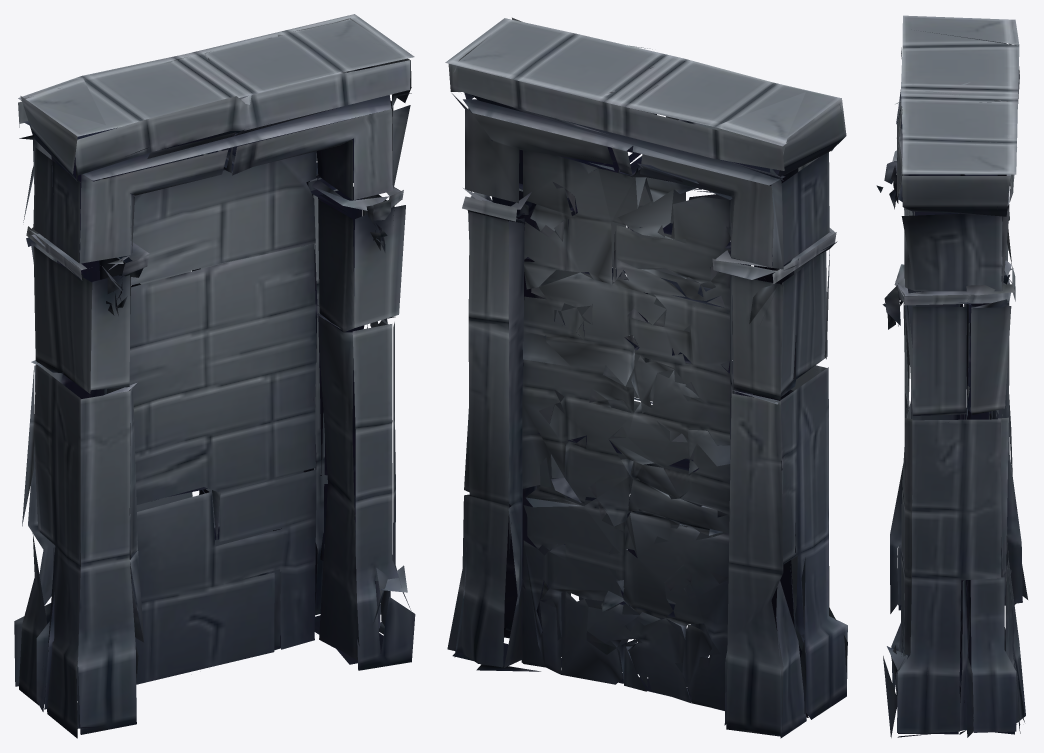
Rendered from arc_wall_2m.glb.
The picture shows the model from 3 angles, left to right: view 1: azimuth 30°, elevation 25°; view 2: azimuth 150°, elevation 25°; view 3: azimuth 270°, elevation 25°; orthographic projection. The views are drawn at different scales.
Parts seen in each view (by area): view 1: MetricPlacement; view 2: MetricPlacement; view 3: MetricPlacement.
Boxes of the visible parts, bbox=[...] form: MetricPlacement: bbox=[14, 14, 415, 738]; MetricPlacement: bbox=[445, 17, 847, 738]; MetricPlacement: bbox=[876, 15, 1027, 737].
Bounding box in the file's own units: 2 × 3.29 × 0.7961.
Materials: 1 (1 with a texture image).
